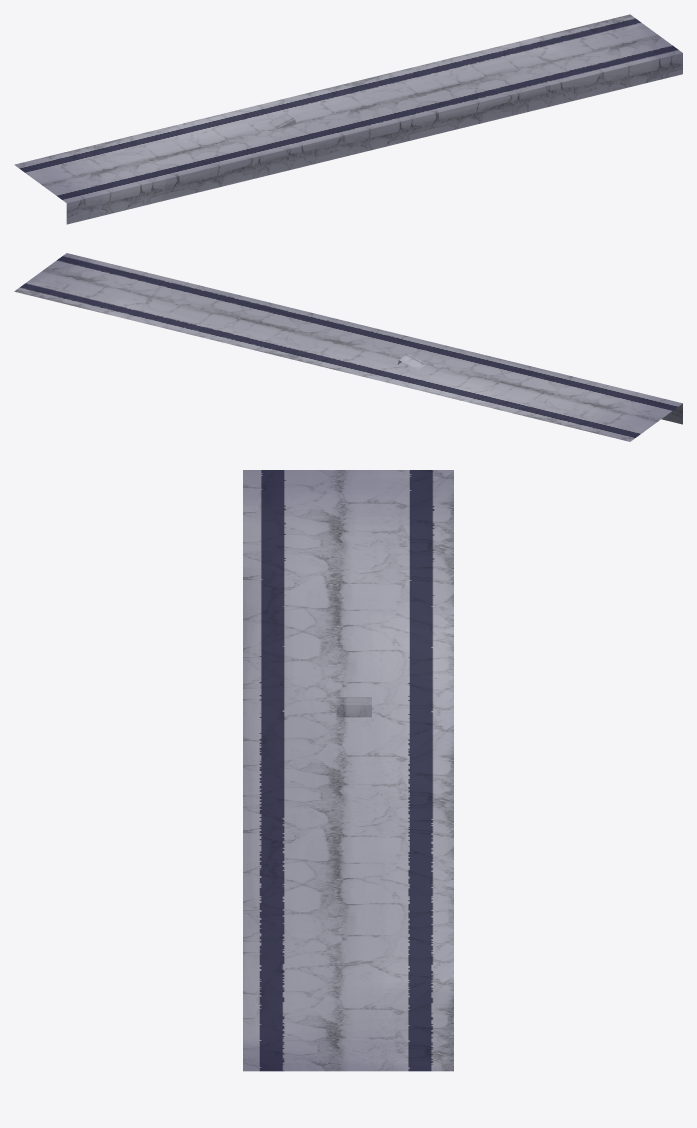
The picture shows the model from 3 angles, top to bottom: view 1: azimuth 30°, elevation 25°; view 2: azimuth 150°, elevation 25°; view 3: azimuth 270°, elevation 25°; orthographic projection. The views are drawn at different scales.
Visible parts, largest first — view 1: Box001; view 2: Box001; view 3: Box001.
Boxes of the visible parts, bbox=[...] form: Box001: bbox=[14, 14, 682, 224]; Box001: bbox=[14, 253, 682, 441]; Box001: bbox=[243, 470, 453, 1071].
Size of the model in its own units: 361 by 14.94 by 53.6.
Materials: 1 (1 with a texture image).
